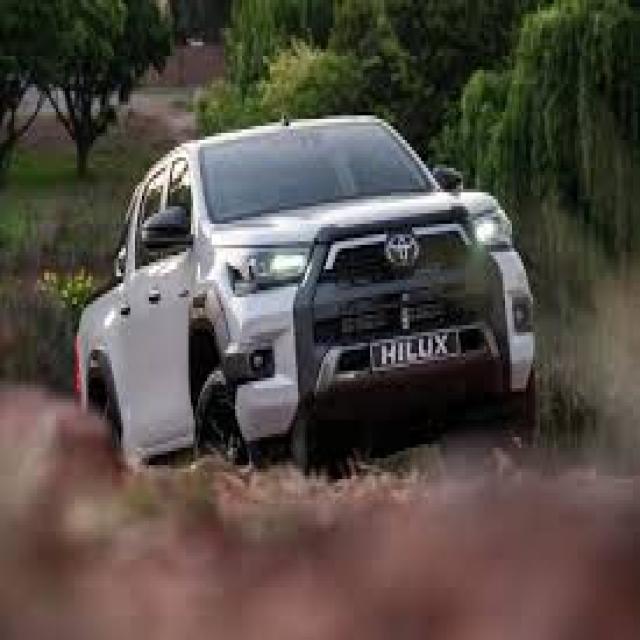Pickup Trucks: (72, 116, 545, 500)
